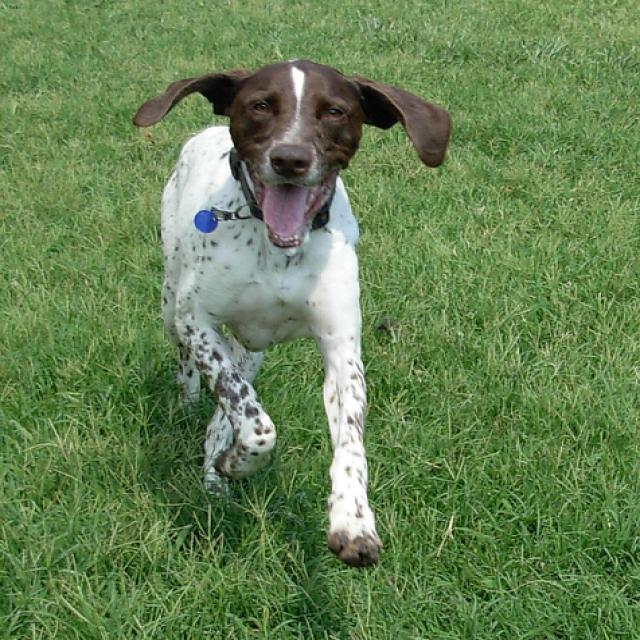dog-german_shorthaired: (121, 54, 456, 577)
